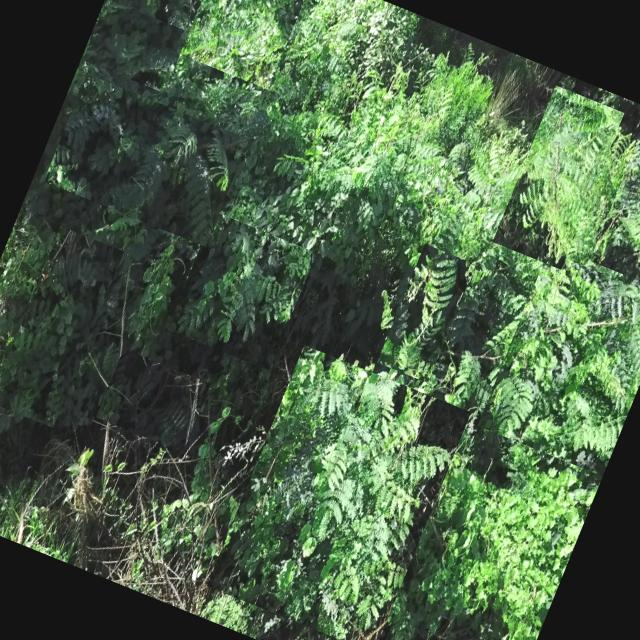Mysore-Thorn-Weed: (206, 345, 470, 640), (477, 251, 640, 476), (42, 74, 248, 246), (0, 226, 123, 427), (492, 85, 624, 269), (167, 212, 316, 371), (376, 244, 476, 382), (179, 0, 314, 89), (96, 348, 210, 452), (82, 0, 188, 93), (589, 131, 640, 296)
